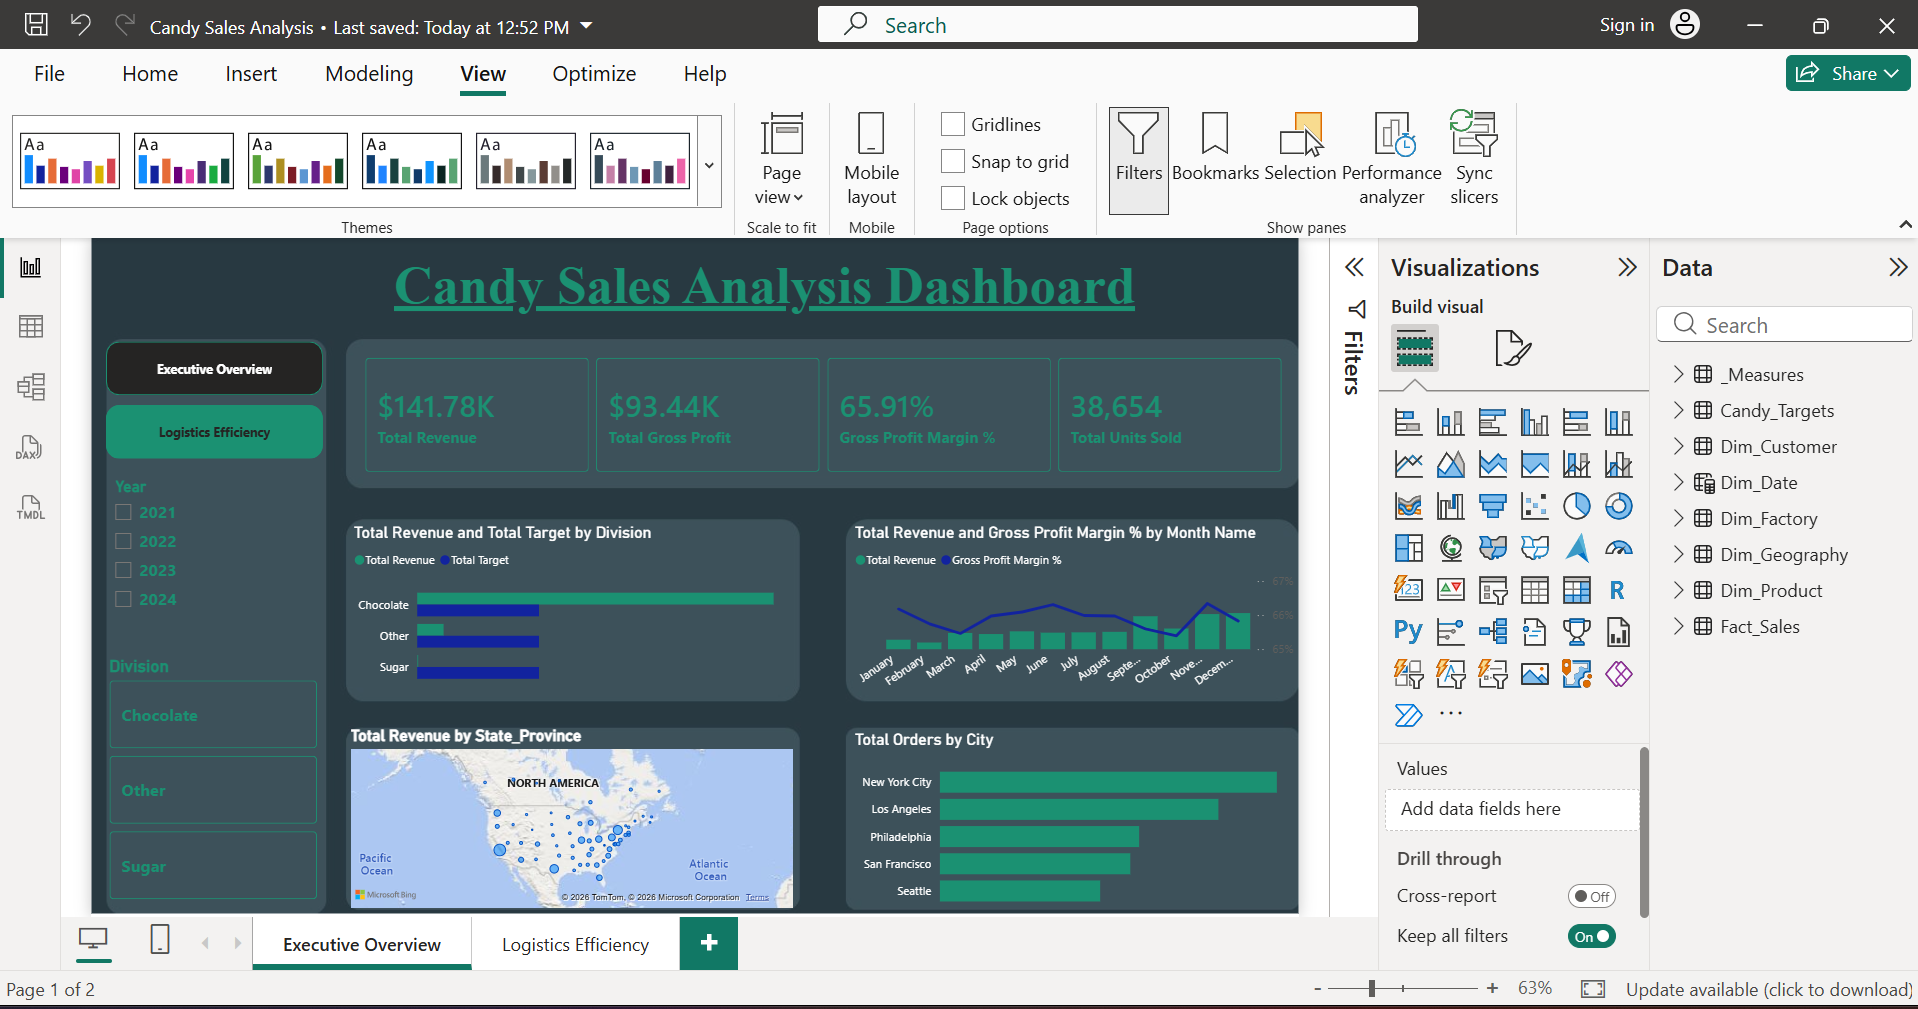

The page's visual inventory and layout, read from the dashboard file:
{"tool":"powerbi","page":{"name":"Executive Overview","canvas":[1280,720],"ordinal":0},"visuals":[{"type":"clusteredBarChart","fields":{"Category":["Dim_Product.Division"],"Y":["_Measures.Total Revenue","_Measures.Total Target"]},"box":[273.6,302.2,478.8,184.5],"z":0},{"type":"lineStackedColumnComboChart","fields":{"Category":["Dim_Date.Month Name"],"Y":["_Measures.Total Revenue"],"Y2":["_Measures.Gross Profit Margin %"]},"box":[804.8,302.2,475.6,184.5],"z":1000},{"type":"map","fields":{"Category":["Dim_Customer.State_Province"],"Size":["_Measures.Total Revenue"]},"box":[270.4,516.9,478.8,198.8],"z":2000},{"type":"clusteredBarChart","fields":{"Category":["Dim_Customer.City"],"Y":["_Measures.Total Orders"]},"box":[804.8,521.7,475.6,198.8],"z":3000},{"type":"cardVisual","fields":{"Data":["_Measures.Total Revenue","_Measures.Total Gross Profit","_Measures.Gross Profit Margin %","_Measures.Total Units Sold"]},"box":[273.6,109.8,1006.9,155.9],"z":4000},{"type":"slicer","fields":{"Values":["Dim_Date.Year"]},"box":[12.7,248.1,230.6,195.6],"z":5000},{"type":"advancedSlicerVisual","fields":{"Values":["Candy_Targets.Division"]},"box":[14.3,443.8,230.6,262.5],"z":6000},{"type":"textbox","box":[321.3,17.5,820.8,76.3],"z":7000},{"type":"pageNavigator","box":[15.9,109.8,230.6,125.7],"z":8000}]}

Visuals, with their boxes on the page's 1280x720 design canvas (x1, y1, x2, y2). These are canvas units, not pixel positions in the 1918x1009 screenshot, which may show the page scaled, cropped or inside an application window:
clusteredBarChart - Dim_Product.Division x _Measures.Total Revenue: x1=274, y1=302, x2=752, y2=487
lineStackedColumnComboChart - Dim_Date.Month Name x _Measures.Total Revenue: x1=805, y1=302, x2=1280, y2=487
map - Dim_Customer.State_Province x _Measures.Total Revenue: x1=270, y1=517, x2=749, y2=716
clusteredBarChart - Dim_Customer.City x _Measures.Total Orders: x1=805, y1=522, x2=1280, y2=720
cardVisual - _Measures.Total Revenue x _Measures.Total Gross Profit: x1=274, y1=110, x2=1280, y2=266
slicer - Dim_Date.Year: x1=13, y1=248, x2=243, y2=444
advancedSlicerVisual - Candy_Targets.Division: x1=14, y1=444, x2=245, y2=706
textbox: x1=321, y1=18, x2=1142, y2=94
pageNavigator: x1=16, y1=110, x2=246, y2=236
